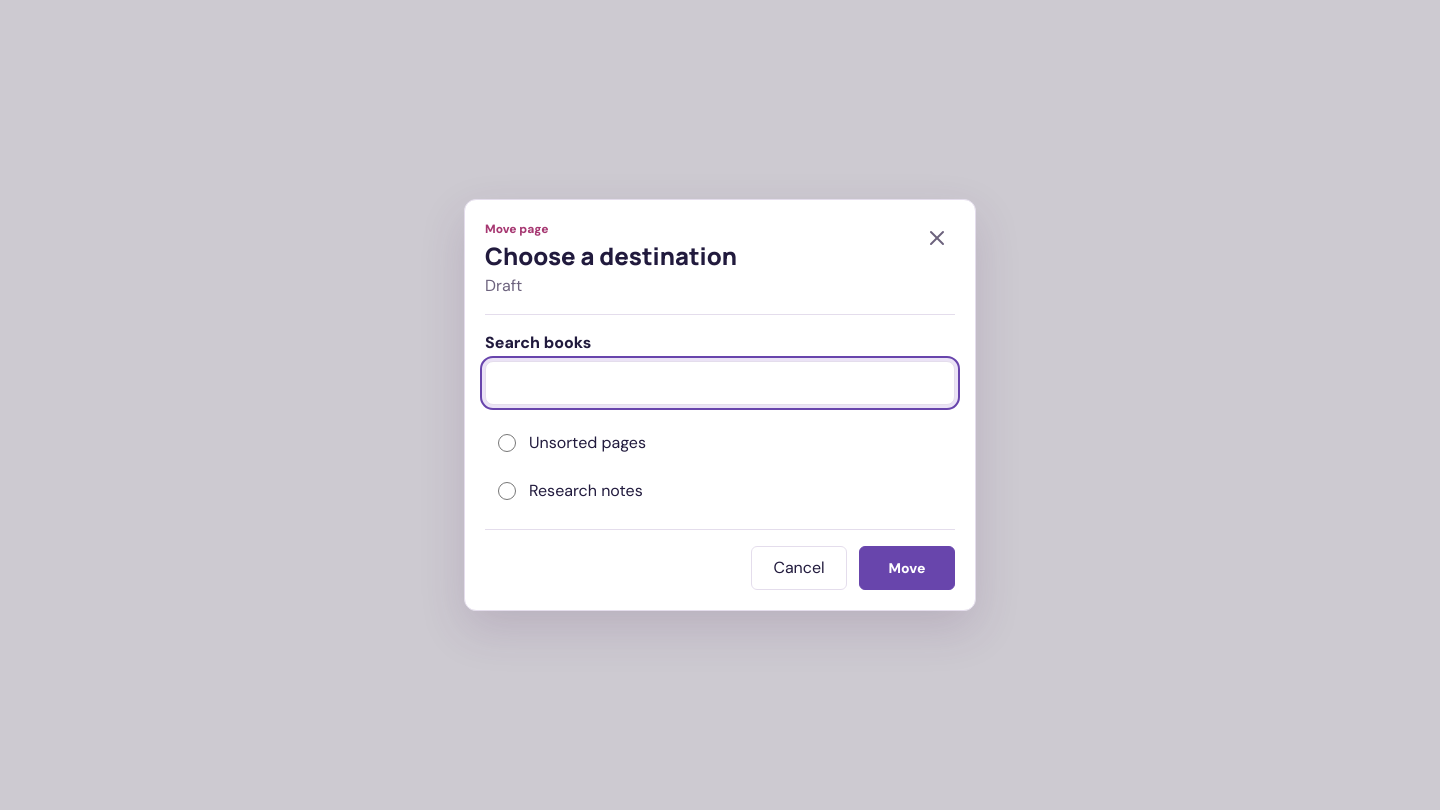
Test case: MovePageDialog › keeps the dialog and error visible after a rejected move
The image size is (1440, 810).
Click the radio button labelled "Unsorted pages" at (507, 443), box 498,434 -> 516,452
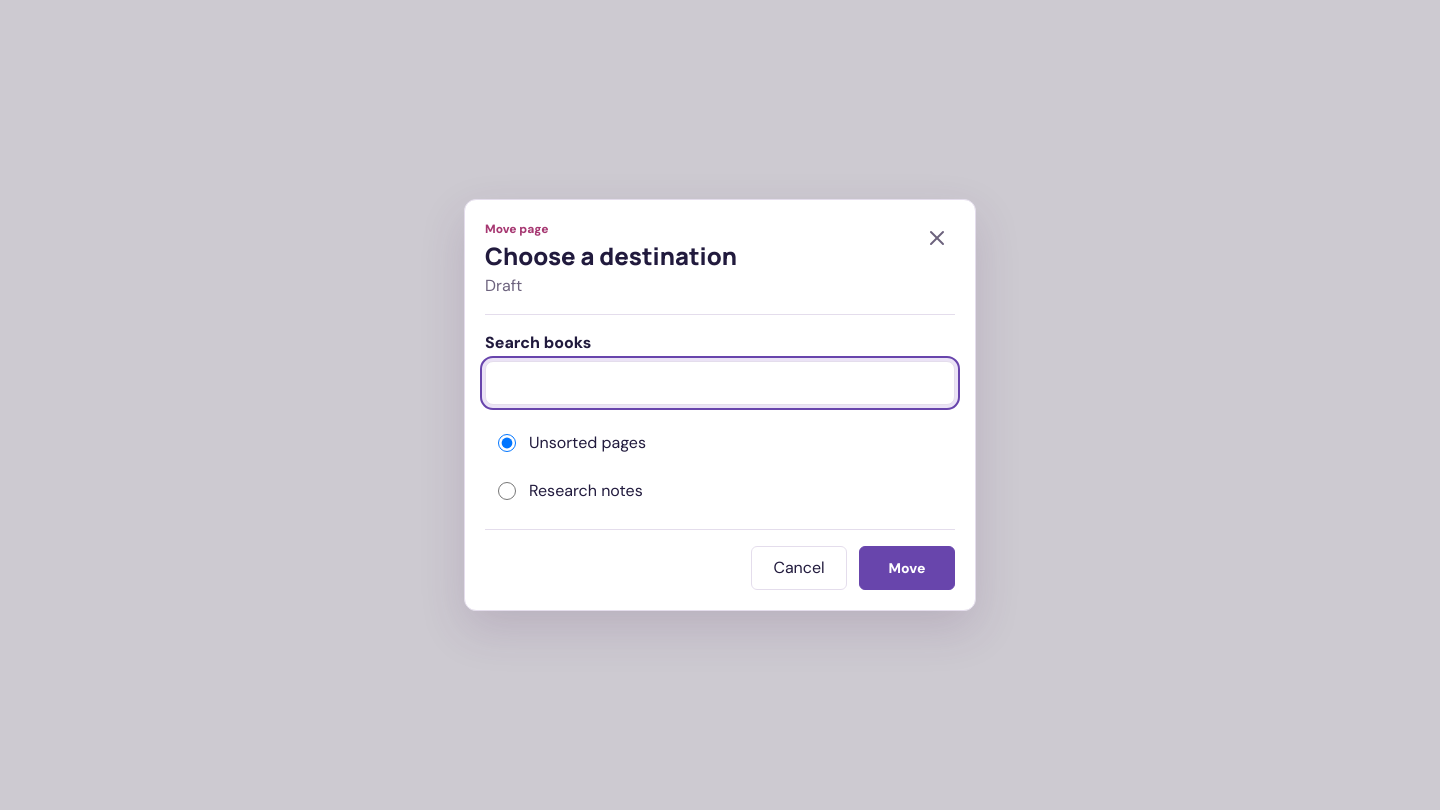
Click the button with aria-label "Move page" at (907, 568), box 859,546 -> 955,590
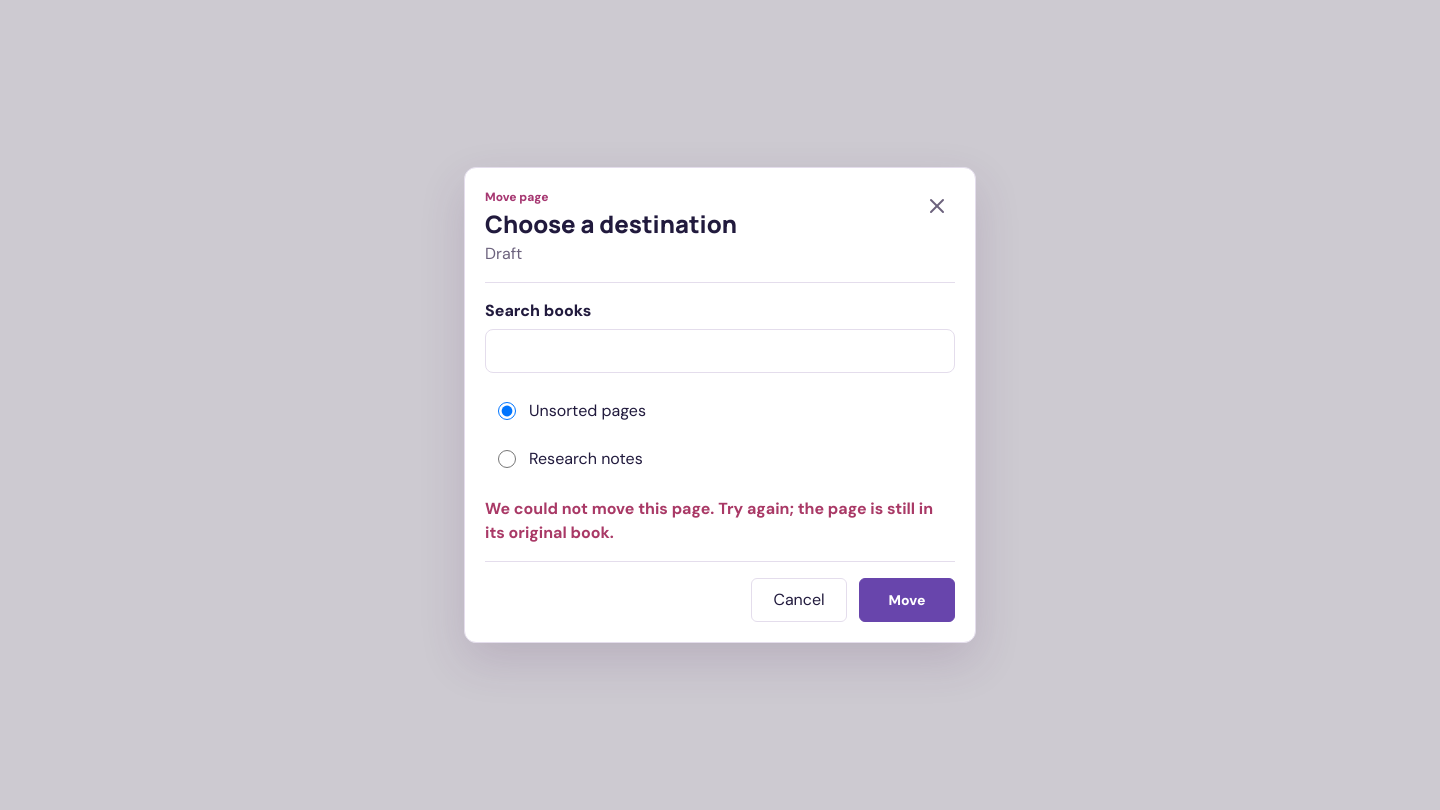
Check: the dialog is shown, box 464,167 -> 976,643
Check: the message shows "could not move", box 485,498 -> 933,543
